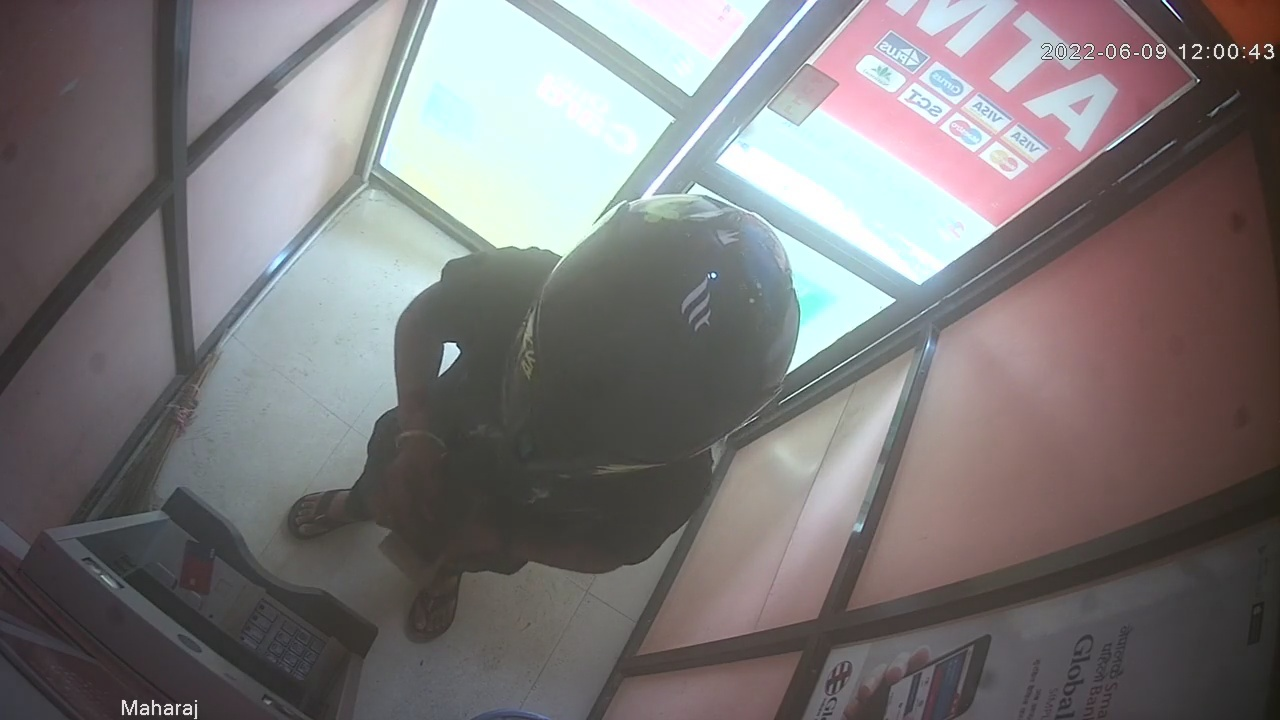helmet: (498, 191, 799, 478)
person: (284, 191, 803, 645)
